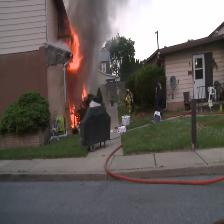fire: (56, 21, 100, 140)
smoke: (65, 2, 122, 83)
